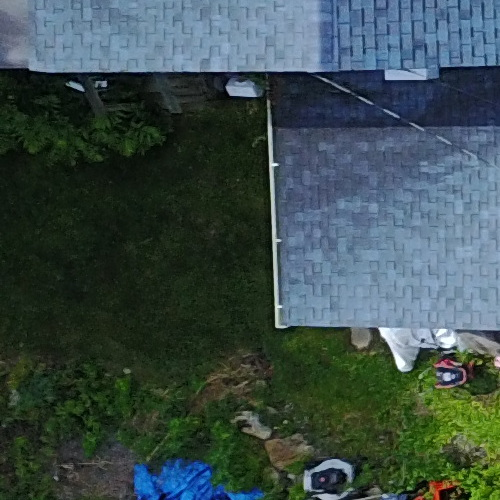tarp: (117, 453, 260, 500)
